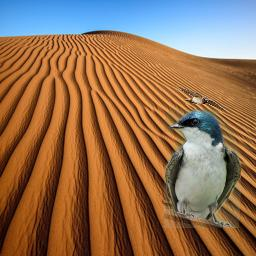Swallow: (164, 109, 241, 228), (174, 84, 228, 112)
